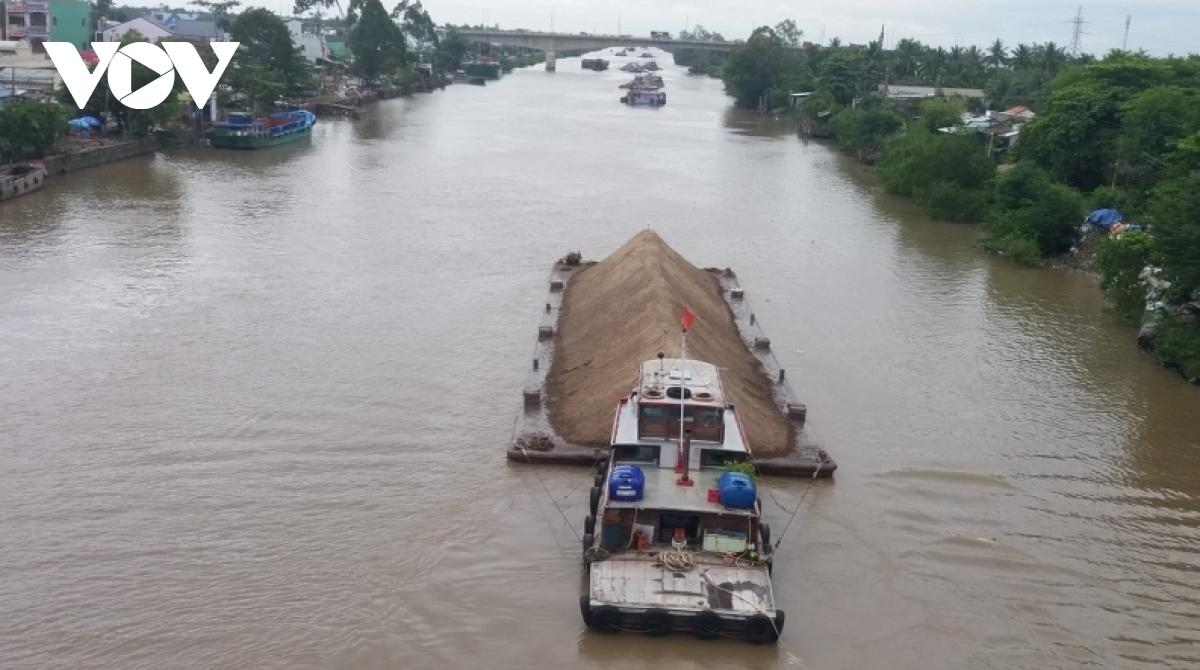Ship: (510, 231, 838, 646), (210, 111, 317, 150)
